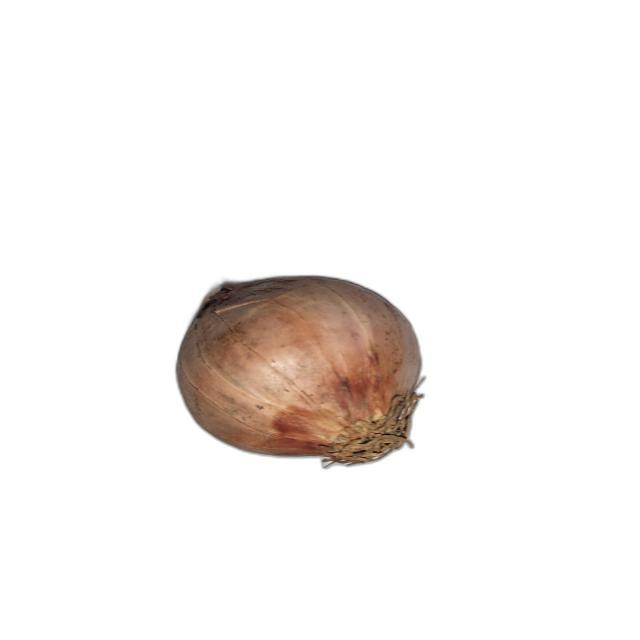onion: (175, 276, 428, 469)
